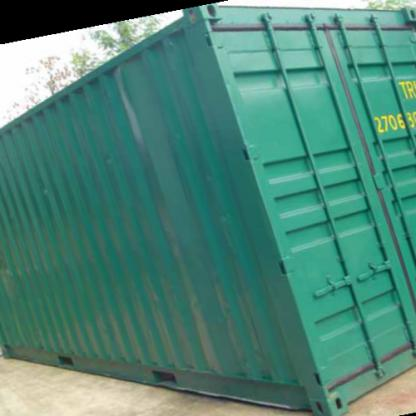Damage: (162, 221, 248, 383), (106, 62, 169, 164), (28, 314, 140, 367), (1, 237, 66, 296), (39, 178, 56, 203)
